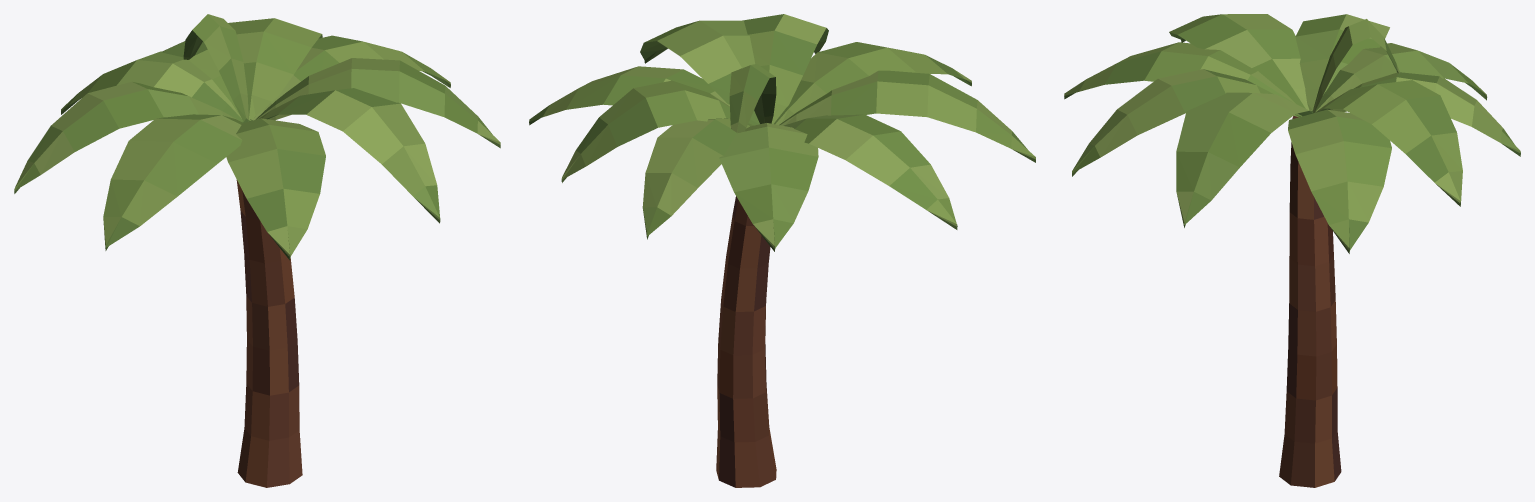
The model's file is t02_compact_wide.glb.
3 views of the same model, side by side, from view 1: azimuth 30°, elevation 25°; view 2: azimuth 150°, elevation 25°; view 3: azimuth 270°, elevation 25° (orthographic).
Visible parts, largest first — view 1: T02_palm; view 2: T02_palm; view 3: T02_palm.
Part boxes in pixels (x1,y1,x2,y2): T02_palm: (14,14,500,487); T02_palm: (529,14,1035,487); T02_palm: (1064,14,1520,487).
Bounding box in the file's own units: 2.49 × 2.43 × 2.29.
